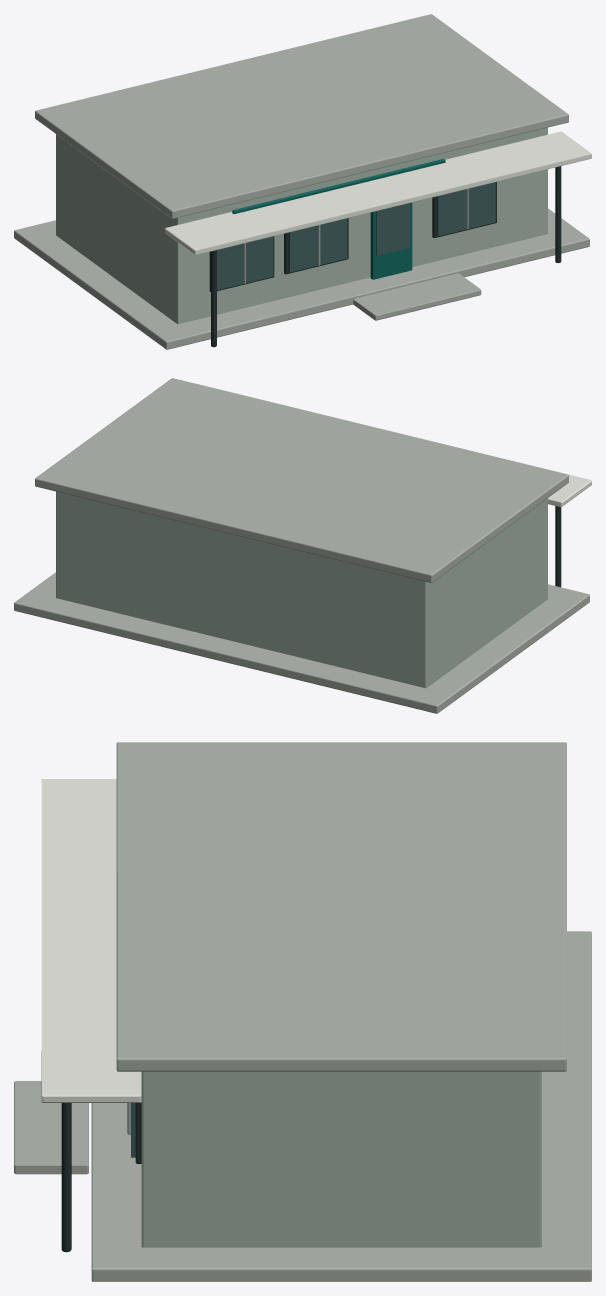
Rendered from office.glb.
3 views of the same model, one above another, from view 1: azimuth 30°, elevation 25°; view 2: azimuth 150°, elevation 25°; view 3: azimuth 270°, elevation 25° (orthographic). The views are drawn at different scales.
Visible parts, largest first — view 1: Weathered concrete.001, Office sage plaster, Truck enamel.004, Tinted glazing.003, NouDilo vehicle livery.004, Powder coated charcoal.004; view 2: Weathered concrete.001, Office sage plaster, Truck enamel.004, Powder coated charcoal.004; view 3: Weathered concrete.001, Office sage plaster, Truck enamel.004, Powder coated charcoal.004.
Boxes of the visible parts, x1=… form: Weathered concrete.001: x1=14, y1=14, x2=589, y2=349; Office sage plaster: x1=56, y1=127, x2=547, y2=324; Truck enamel.004: x1=165, y1=131, x2=591, y2=254; Tinted glazing.003: x1=217, y1=182, x2=495, y2=290; NouDilo vehicle livery.004: x1=232, y1=159, x2=445, y2=279; Powder coated charcoal.004: x1=209, y1=166, x2=561, y2=347; Weathered concrete.001: x1=14, y1=378, x2=589, y2=713; Office sage plaster: x1=56, y1=491, x2=547, y2=688; Truck enamel.004: x1=196, y1=383, x2=591, y2=507; Powder coated charcoal.004: x1=555, y1=506, x2=561, y2=587; Weathered concrete.001: x1=14, y1=742, x2=591, y2=1281; Office sage plaster: x1=141, y1=1071, x2=541, y2=1247; Truck enamel.004: x1=41, y1=779, x2=141, y2=1102; Powder coated charcoal.004: x1=61, y1=1102, x2=141, y2=1252.
Bounding box in the file's own units: 16 × 4.7 × 11.55.
